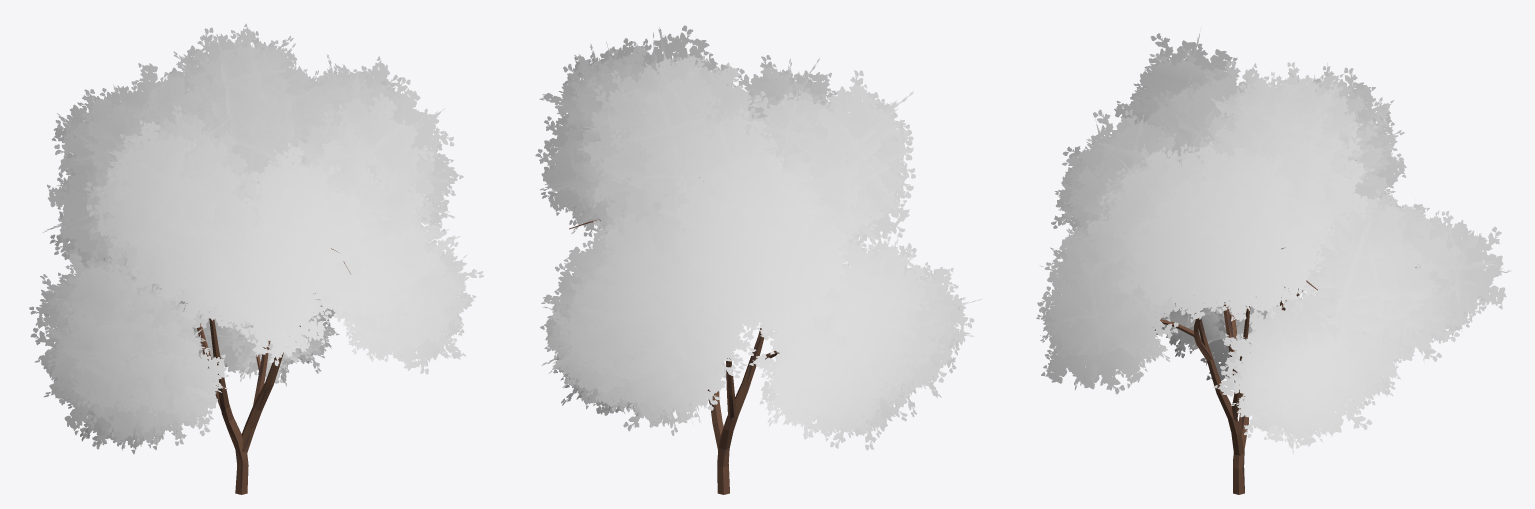
Rendered from mesh_tree_oak_02.fbx.
3 views of the same model, side by side, from view 1: azimuth 30°, elevation 25°; view 2: azimuth 150°, elevation 25°; view 3: azimuth 270°, elevation 25° (orthographic). The views are drawn at different scales.
Visible parts, largest first — view 1: mesh_tree_oak_02_leaves, mesh_tree_oak_02_trunk_LOD0; view 2: mesh_tree_oak_02_leaves, mesh_tree_oak_02_trunk_LOD0; view 3: mesh_tree_oak_02_leaves, mesh_tree_oak_02_trunk_LOD0.
Part boxes in pixels (left/top/right/bottom): mesh_tree_oak_02_leaves: left=29, top=23, right=483, bottom=454; mesh_tree_oak_02_trunk_LOD0: left=197, top=248, right=350, bottom=494; mesh_tree_oak_02_leaves: left=535, top=25, right=981, bottom=450; mesh_tree_oak_02_trunk_LOD0: left=569, top=177, right=779, bottom=494; mesh_tree_oak_02_leaves: left=1036, top=27, right=1511, bottom=453; mesh_tree_oak_02_trunk_LOD0: left=1160, top=247, right=1416, bottom=494.
Size of what is drawn, in the model's own units: 11.93 by 12 by 12.42.
